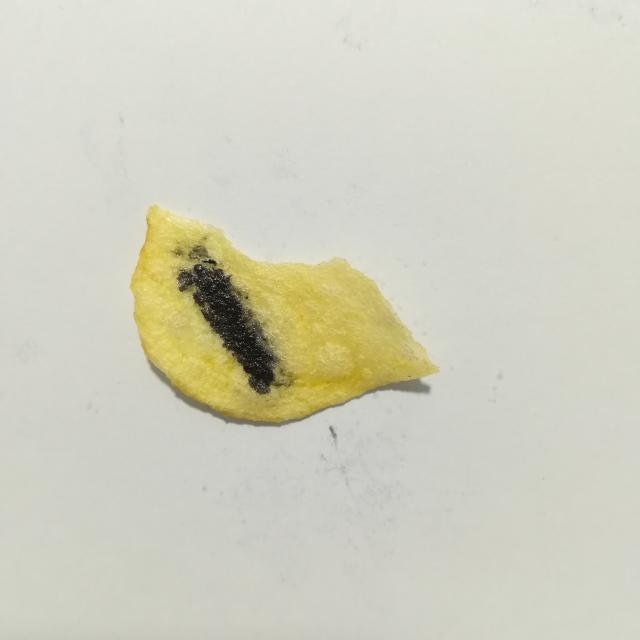chip: (130, 206, 438, 422)
damaged: (177, 246, 288, 394)
semi-damaged: (173, 247, 184, 256)
